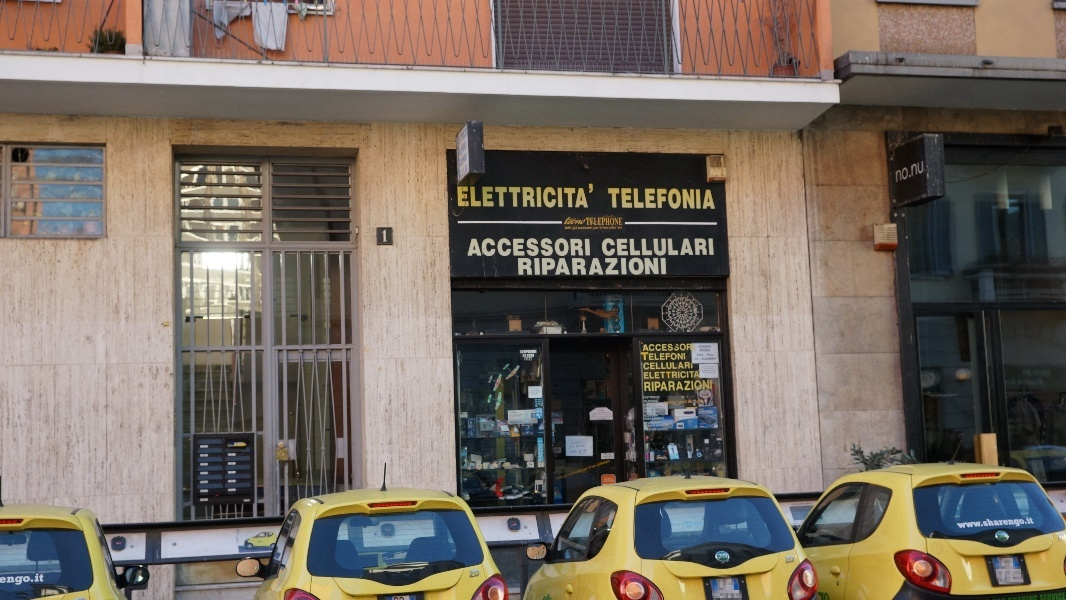text: (644, 396, 656, 431), (657, 396, 669, 431), (465, 183, 480, 208), (481, 183, 496, 208), (497, 183, 512, 208), (513, 183, 528, 208), (529, 183, 544, 208), (545, 183, 560, 208), (561, 183, 576, 208), (577, 183, 592, 208), (609, 188, 624, 210), (625, 188, 640, 210), (641, 188, 656, 210), (657, 188, 672, 210), (673, 188, 688, 210), (689, 188, 704, 210), (561, 460, 576, 481), (577, 460, 592, 481), (593, 460, 608, 481), (609, 238, 624, 257), (625, 238, 640, 257), (641, 238, 656, 257), (657, 238, 672, 257), (673, 238, 688, 257), (689, 238, 704, 257), (529, 258, 544, 276), (545, 258, 560, 276), (561, 258, 576, 276), (577, 258, 592, 276), (593, 258, 608, 276), (609, 258, 624, 276), (625, 258, 640, 276), (641, 258, 656, 276), (481, 239, 496, 256), (497, 239, 512, 256), (513, 239, 528, 256), (529, 239, 544, 256), (545, 239, 560, 256), (561, 239, 576, 256), (961, 515, 976, 531), (977, 515, 992, 531), (993, 515, 1008, 531), (1009, 515, 1024, 531), (577, 239, 591, 256), (897, 166, 911, 182), (705, 188, 715, 210), (518, 258, 528, 276), (657, 258, 667, 276), (913, 161, 925, 176), (657, 380, 672, 392), (673, 380, 688, 392), (689, 380, 704, 392), (1025, 515, 1036, 531), (705, 238, 714, 257), (457, 126, 464, 148), (1, 576, 16, 586), (17, 576, 32, 586), (458, 183, 464, 208), (472, 239, 480, 256), (785, 555, 800, 564), (641, 352, 656, 361), (657, 352, 672, 361), (657, 361, 672, 370), (673, 361, 688, 370), (645, 380, 656, 392), (577, 442, 587, 455), (593, 218, 608, 226), (529, 388, 544, 396), (657, 371, 672, 379), (673, 371, 688, 379), (673, 352, 686, 361), (602, 238, 608, 257), (609, 218, 623, 226), (458, 141, 464, 159), (458, 153, 464, 171), (644, 361, 656, 370), (657, 344, 672, 351), (673, 344, 688, 351), (1009, 593, 1024, 600), (1025, 593, 1040, 600), (1041, 593, 1056, 600), (35, 574, 48, 582), (469, 570, 480, 579), (994, 593, 1008, 600), (644, 371, 656, 379), (689, 371, 701, 379), (705, 380, 713, 392), (459, 163, 464, 181), (705, 354, 717, 361), (705, 367, 717, 374), (955, 515, 960, 531), (570, 442, 576, 455), (645, 344, 656, 351), (673, 400, 688, 405), (689, 400, 704, 405), (577, 217, 586, 225), (465, 126, 468, 148), (513, 412, 524, 418), (568, 217, 576, 225), (557, 460, 560, 481), (695, 354, 704, 361), (705, 408, 714, 415), (1057, 593, 1066, 600), (465, 153, 468, 171), (465, 163, 468, 181), (593, 183, 595, 208), (705, 345, 712, 352), (586, 218, 592, 226), (609, 226, 624, 229), (565, 226, 576, 230), (578, 226, 592, 229), (594, 227, 608, 230), (609, 460, 611, 481), (689, 344, 695, 351), (721, 554, 729, 559), (664, 400, 672, 405), (385, 230, 388, 243), (465, 141, 467, 159), (689, 361, 693, 370), (699, 345, 704, 352), (699, 408, 704, 415), (520, 350, 528, 354), (529, 350, 537, 354), (603, 454, 608, 460), (382, 230, 384, 243), (600, 226, 608, 229), (609, 454, 613, 460), (603, 478, 608, 482), (609, 478, 614, 482), (523, 354, 528, 358), (529, 354, 535, 357), (509, 412, 512, 418), (702, 367, 704, 374), (573, 226, 576, 230), (618, 227, 624, 229), (603, 227, 608, 229), (33, 576, 34, 586), (705, 400, 707, 405), (529, 358, 532, 361), (526, 358, 528, 361), (719, 554, 720, 559), (527, 354, 528, 357)
